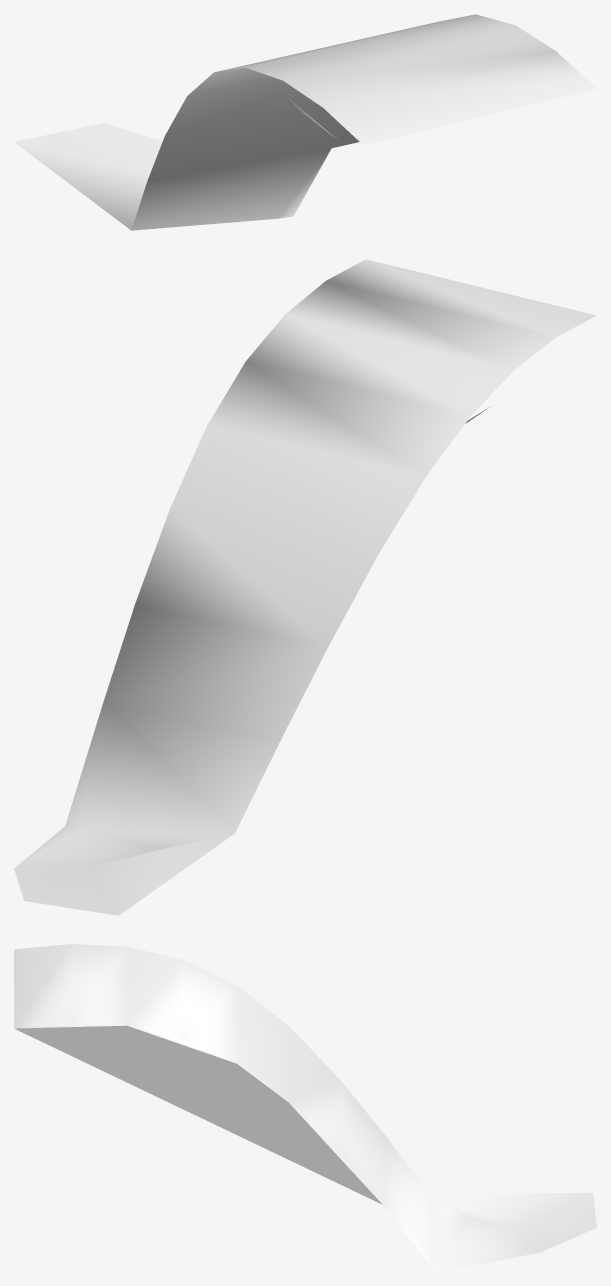
3 renders of one model, top to bottom at view 1: azimuth 30°, elevation 25°; view 2: azimuth 150°, elevation 25°; view 3: azimuth 270°, elevation 25°, orthographic. The views are drawn at different scales.
Bounding box in the file's own units: 0.2048 × 0.3003 × 0.6374.
Materials: 1 (1 with a texture image).
